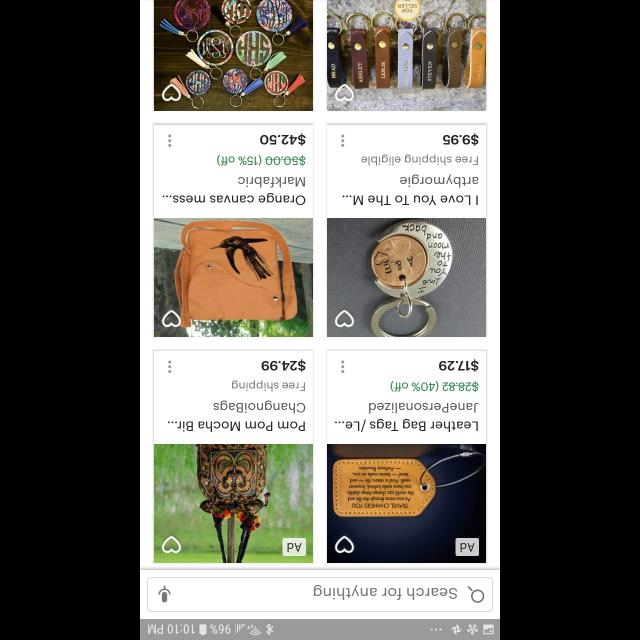icon: (162, 535, 182, 553), (162, 309, 182, 327), (334, 536, 354, 552), (334, 310, 354, 326), (334, 84, 354, 100), (162, 85, 180, 102), (468, 586, 484, 602), (157, 584, 170, 602), (340, 134, 344, 148), (168, 134, 172, 148), (341, 360, 345, 372), (168, 360, 172, 372)
image: (326, 443, 486, 562), (154, 218, 314, 336), (326, 218, 486, 336), (154, 443, 312, 562), (154, 0, 314, 111), (326, 0, 486, 111)
input: (148, 576, 492, 612)
text: (313, 584, 457, 600), (334, 418, 478, 432), (162, 192, 306, 205), (342, 194, 478, 206), (168, 421, 304, 432), (362, 154, 478, 166), (213, 399, 305, 413), (368, 402, 478, 413), (398, 174, 478, 188), (217, 154, 306, 166), (390, 381, 478, 392), (231, 380, 305, 392), (238, 176, 306, 188), (260, 132, 306, 146), (262, 358, 306, 372), (438, 358, 478, 372), (442, 134, 478, 146)
textbutton: (455, 538, 479, 556), (282, 538, 306, 556)
uppertaskbar: (140, 618, 500, 640)
